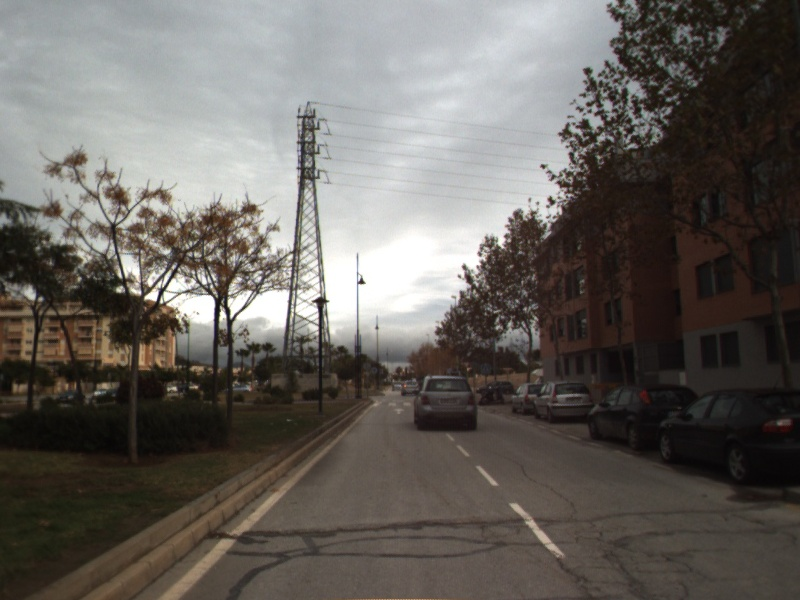STRAIGHT: (391, 406, 407, 416)
